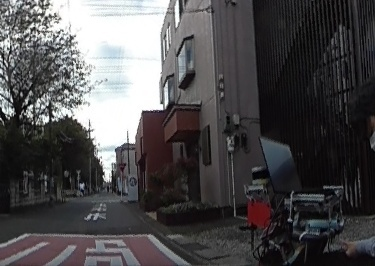person: (307, 79, 375, 266), (78, 178, 85, 197)
